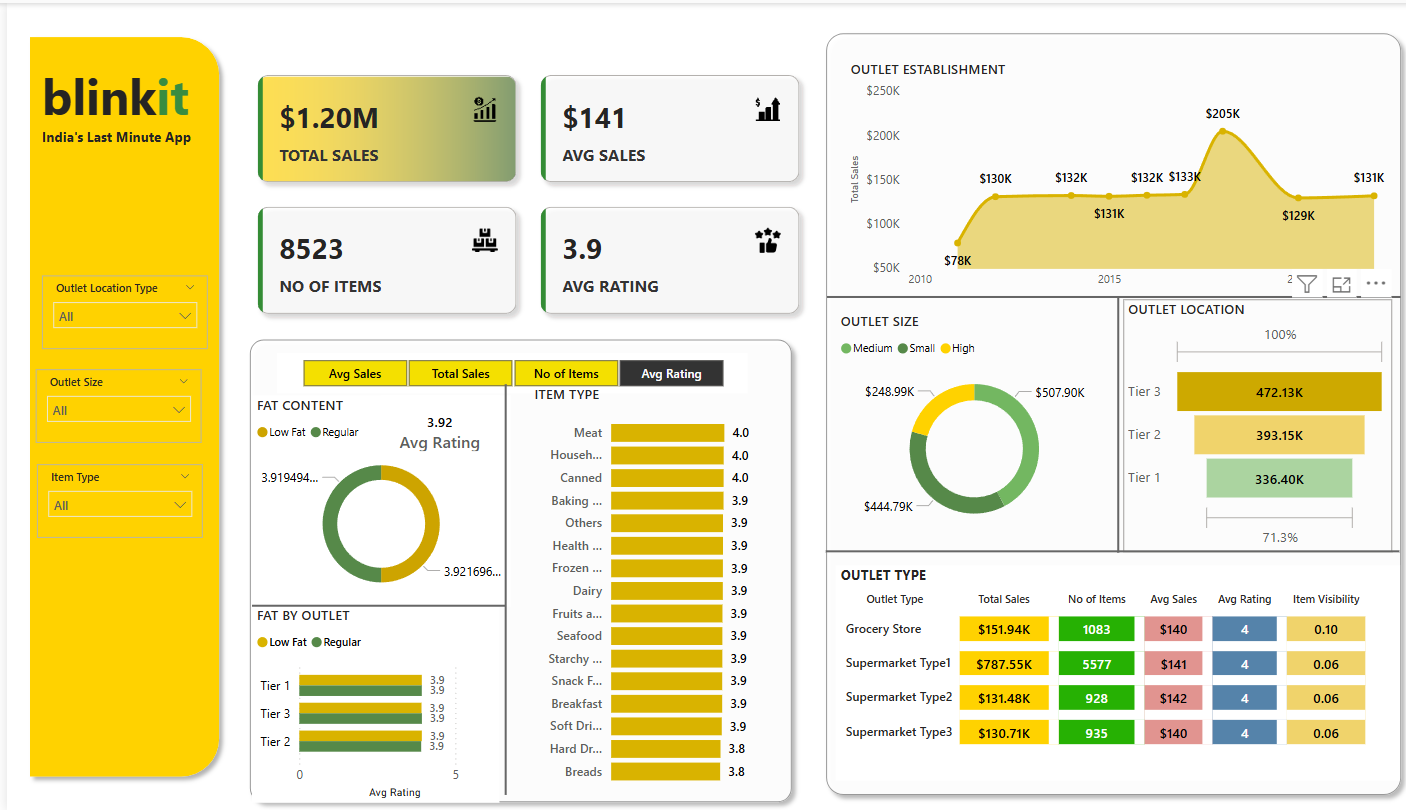

This screenshot's page, from the dashboard's own definition file:
{"tool":"powerbi","page":{"name":"Page 1","canvas":[1400,800],"ordinal":0},"visuals":[{"type":"shape","box":[14,24.9,205.3,749.8],"z":0},{"type":"textbox","box":[266.5,25,205,750],"z":1000},{"type":"textbox","box":[29.6,54.4,163.3,84],"z":2000},{"type":"textbox","box":[30,118.6,174.3,40],"z":3000},{"type":"cardVisual","fields":{"Data":["BlinkIT Grocery Data xlsx - BlinkIT Grocery Data.Total Sales","BlinkIT Grocery Data xlsx - BlinkIT Grocery Data.Avg Sales","BlinkIT Grocery Data xlsx - BlinkIT Grocery Data.No of Items","BlinkIT Grocery Data xlsx - BlinkIT Grocery Data.Avg Rating"]},"box":[231.4,54.3,570,270],"z":4000},{"type":"shape","box":[231.4,324.3,554.3,475.7],"z":5000},{"type":"donutChart","title":"FAT CONTENT","fields":{"Y":["BlinkIT Grocery Data xlsx - BlinkIT Grocery Data.Avg Rating"],"Category":["BlinkIT Grocery Data xlsx - BlinkIT Grocery Data.Item Fat Content"]},"box":[242.4,388.4,256,209],"z":6000},{"type":"slicer","fields":{"Values":["Metrics.Metrics"]},"box":[267.1,345.7,465.7,40],"z":7000},{"type":"cardVisual","fields":{"Data":["BlinkIT Grocery Data xlsx - BlinkIT Grocery Data.Avg Rating"]},"box":[369.8,388.4,117.5,60.6],"z":8000},{"type":"clusteredBarChart","title":"FAT BY OUTLET","fields":{"Y":["BlinkIT Grocery Data xlsx - BlinkIT Grocery Data.Avg Rating"],"Category":["BlinkIT Grocery Data xlsx - BlinkIT Grocery Data.Outlet Location Type"],"Series":["BlinkIT Grocery Data xlsx - BlinkIT Grocery Data.Item Fat Content"]},"box":[242.5,596.4,245.1,195.3],"z":9000},{"type":"shape","box":[242.5,580.7,250.4,30.1],"z":10000},{"type":"shape","box":[483.7,377.5,19.7,406.4],"z":11000},{"type":"barChart","title":"ITEM TYPE","fields":{"Y":["BlinkIT Grocery Data xlsx - BlinkIT Grocery Data.Avg Rating"],"Category":["BlinkIT Grocery Data xlsx - BlinkIT Grocery Data.Item Type"]},"box":[516.5,377.5,270,406.4],"z":12000},{"type":"shape","box":[801.6,20.5,587,771.7],"z":13000},{"type":"lineChart","title":"OUTLET ESTABLISHMENT","fields":{"Y":["BlinkIT Grocery Data xlsx - BlinkIT Grocery Data.Total Sales"],"Category":["BlinkIT Grocery Data xlsx - BlinkIT Grocery Data.Outlet Establishment Year"]},"box":[829.8,55.1,540,234.6],"z":14000},{"type":"shape","box":[811.4,275.3,567.6,30.1],"z":15000},{"type":"donutChart","title":"OUTLET SIZE","fields":{"Y":["BlinkIT Grocery Data xlsx - BlinkIT Grocery Data.Total Sales"],"Category":["BlinkIT Grocery Data xlsx - BlinkIT Grocery Data.Outlet Size"]},"box":[820,305.5,274.6,226.3],"z":16000},{"type":"shape","box":[1094.6,291.9,9.9,252.3],"z":17000},{"type":"funnel","title":"OUTLET LOCATION","fields":{"Y":["Sum(BlinkIT Grocery Data xlsx - BlinkIT Grocery Data.Sales)"],"Category":["BlinkIT Grocery Data xlsx - BlinkIT Grocery Data.Outlet Location Type"]},"box":[1104.5,293.1,265.9,251.1],"z":18000},{"type":"shape","box":[810.1,528.3,567.6,28.8],"z":19000},{"type":"pivotTable","title":"OUTLET TYPE","fields":{"Rows":["BlinkIT Grocery Data xlsx - BlinkIT Grocery Data.Outlet Type"],"Values":["BlinkIT Grocery Data xlsx - BlinkIT Grocery Data.Total Sales","BlinkIT Grocery Data xlsx - BlinkIT Grocery Data.No of Items","BlinkIT Grocery Data xlsx - BlinkIT Grocery Data.Avg Sales","BlinkIT Grocery Data xlsx - BlinkIT Grocery Data.Avg Rating","Avg(BlinkIT Grocery Data xlsx - BlinkIT Grocery Data.Item Visibility)"]},"box":[820.6,557,558.6,213],"z":20000},{"type":"slicer","fields":{"Values":["BlinkIT Grocery Data xlsx - BlinkIT Grocery Data.Outlet Location Type"]},"box":[34.7,269.8,164.1,72.6],"z":21000},{"type":"slicer","fields":{"Values":["BlinkIT Grocery Data xlsx - BlinkIT Grocery Data.Outlet Size"]},"box":[28.4,362.9,164.1,72.6],"z":22000},{"type":"slicer","fields":{"Values":["BlinkIT Grocery Data xlsx - BlinkIT Grocery Data.Item Type"]},"box":[30,456,164.1,72.6],"z":23000}]}

Visuals, with their boxes in screenshot pixels (x1, y1, x2, y2), scaled from the page's 1400x800 canvas onto the 1406x810 screenshot:
shape: box(14, 25, 220, 784)
textbox: box(268, 25, 474, 785)
textbox: box(30, 55, 194, 140)
textbox: box(30, 120, 205, 161)
cardVisual - BlinkIT Grocery Data xlsx - BlinkIT Grocery Data.Total Sales x BlinkIT Grocery Data xlsx - BlinkIT Grocery Data.Avg Sales: box(232, 55, 805, 328)
shape: box(232, 328, 789, 809)
"FAT CONTENT" donutChart: box(243, 393, 501, 605)
slicer - Metrics.Metrics: box(268, 350, 736, 391)
cardVisual - BlinkIT Grocery Data xlsx - BlinkIT Grocery Data.Avg Rating: box(371, 393, 489, 455)
"FAT BY OUTLET" clusteredBarChart: box(244, 604, 490, 802)
shape: box(244, 588, 495, 618)
shape: box(486, 382, 506, 794)
"ITEM TYPE" barChart: box(519, 382, 790, 794)
shape: box(805, 21, 1395, 802)
"OUTLET ESTABLISHMENT" lineChart: box(833, 56, 1376, 293)
shape: box(815, 279, 1385, 309)
"OUTLET SIZE" donutChart: box(824, 309, 1099, 538)
shape: box(1099, 296, 1109, 551)
"OUTLET LOCATION" funnel: box(1109, 297, 1376, 551)
shape: box(814, 535, 1384, 564)
"OUTLET TYPE" pivotTable: box(824, 564, 1385, 780)
slicer - BlinkIT Grocery Data xlsx - BlinkIT Grocery Data.Outlet Location Type: box(35, 273, 200, 347)
slicer - BlinkIT Grocery Data xlsx - BlinkIT Grocery Data.Outlet Size: box(29, 367, 193, 441)
slicer - BlinkIT Grocery Data xlsx - BlinkIT Grocery Data.Item Type: box(30, 462, 195, 535)
